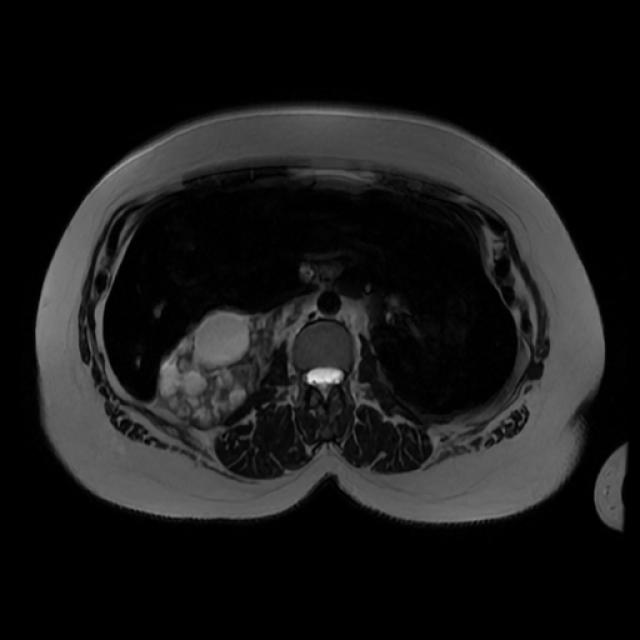sag: (160, 310, 276, 428)
sol: (376, 307, 449, 405)
